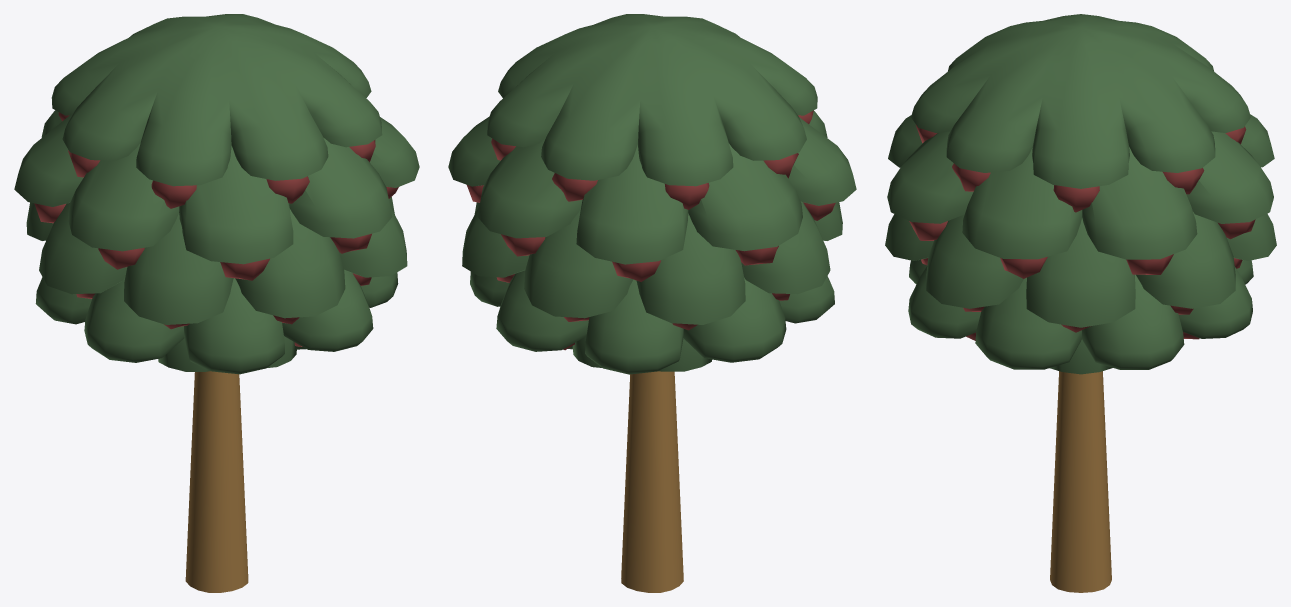
Rendered from Tree_Fruit.glb.
3 views of the same model, side by side, from view 1: azimuth 30°, elevation 25°; view 2: azimuth 150°, elevation 25°; view 3: azimuth 270°, elevation 25° (orthographic).
Parts seen in each view (by area): view 1: Tree_Fruit; view 2: Tree_Fruit; view 3: Tree_Fruit.
Part boxes in pixels (x1=…): Tree_Fruit: x1=14, y1=14, x2=419, y2=592; Tree_Fruit: x1=448, y1=14, x2=856, y2=592; Tree_Fruit: x1=885, y1=14, x2=1276, y2=592.
Bounding box in the file's own units: 5.53 × 8.63 × 5.55.
